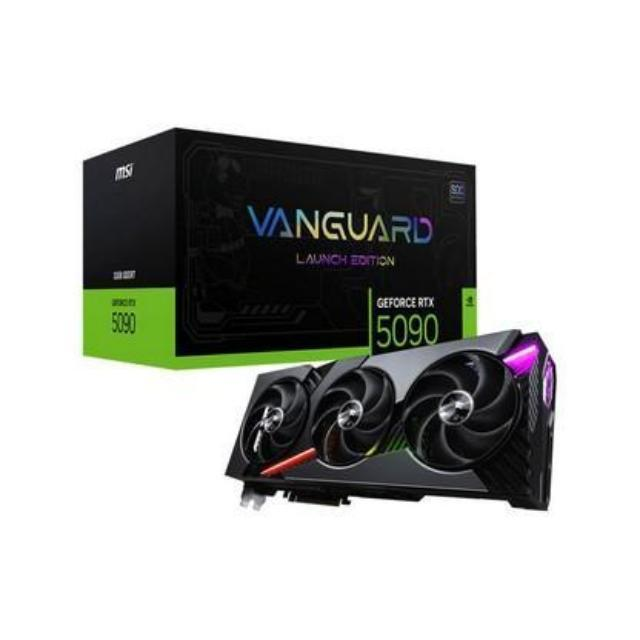GPU: (221, 325, 564, 530)
